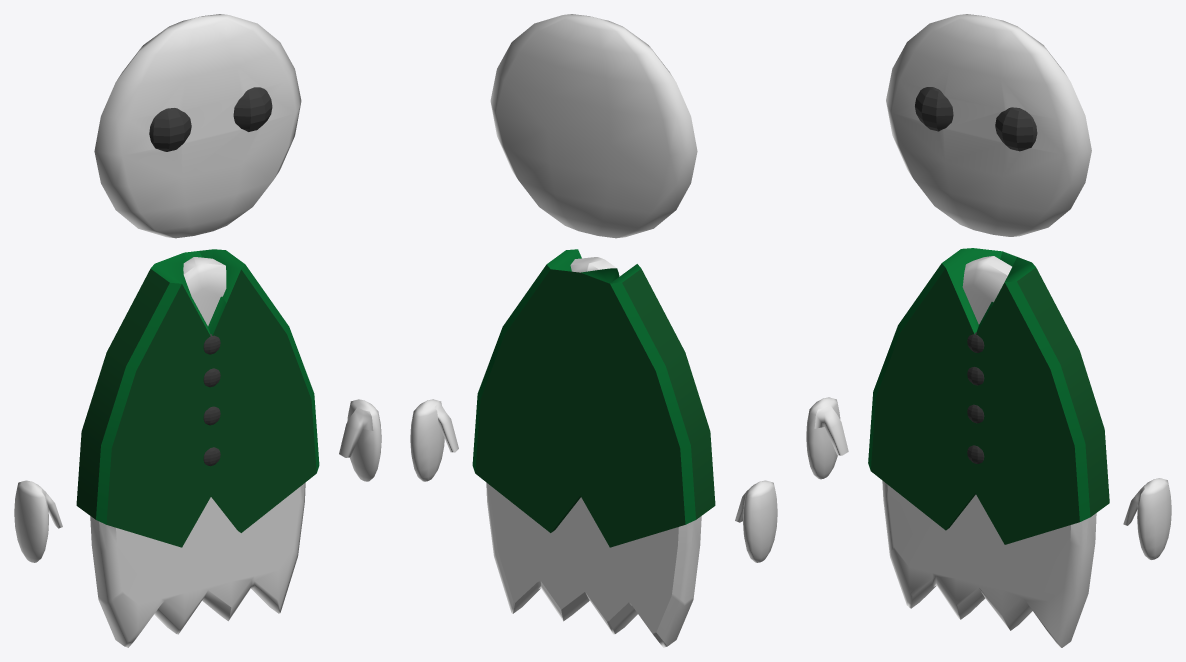
The model's file is bartender.fbx.
3 renders of one model, left to right at view 1: azimuth 30°, elevation 25°; view 2: azimuth 150°, elevation 25°; view 3: azimuth 330°, elevation 25°, orthographic.
Parts seen in each view (by area): view 1: base_hand_left1; view 2: base_hand_left1; view 3: base_hand_left1.
Part boxes in pixels (x1=…): base_hand_left1: x1=14, y1=14, x2=381, y2=647; base_hand_left1: x1=410, y1=14, x2=777, y2=647; base_hand_left1: x1=806, y1=14, x2=1171, y2=647.
Bounding box in the file's own units: 14.98 × 24.61 × 2.54.
